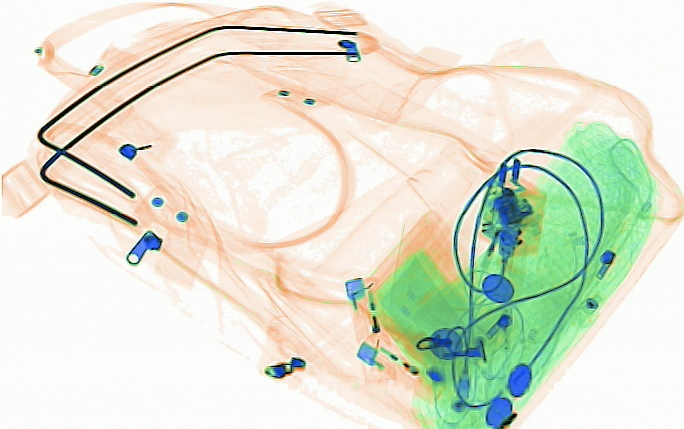lighter: (352, 330, 444, 404), (342, 275, 385, 386)
